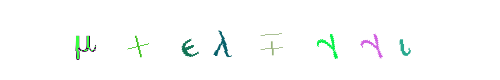1: (159, 0, 239, 80)
7: (206, 0, 286, 80)
E: (164, 0, 244, 80)
G: (210, 0, 290, 80), (287, 0, 367, 80)
I: (333, 0, 413, 80)
L: (196, 0, 276, 80)
M: (45, 0, 125, 80)
